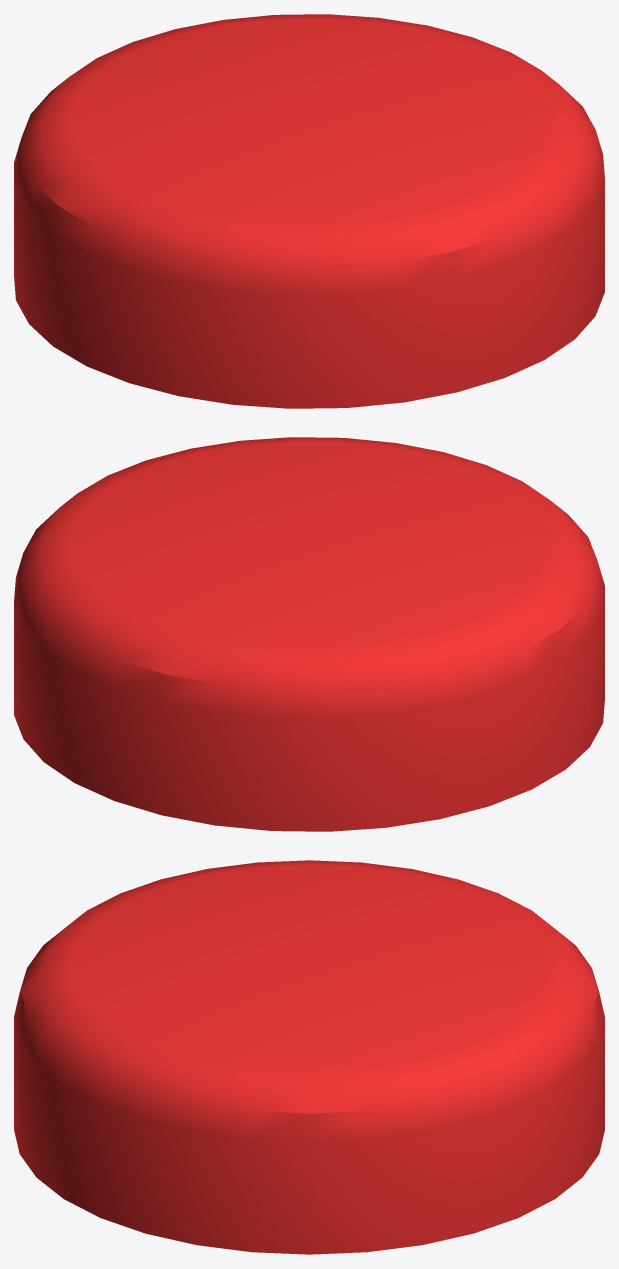
File: fish_sauce_top_nap.fbx
The picture shows the model from 3 angles, top to bottom: view 1: azimuth 30°, elevation 25°; view 2: azimuth 150°, elevation 25°; view 3: azimuth 270°, elevation 25°; orthographic projection.
Parts seen in each view (by area): view 1: fish_sauce_top_nap; view 2: fish_sauce_top_nap; view 3: fish_sauce_top_nap.
Part boxes in pixels (x1,y1,x2,y2): fish_sauce_top_nap: [14, 14, 604, 408]; fish_sauce_top_nap: [14, 437, 604, 831]; fish_sauce_top_nap: [14, 860, 604, 1254].
Size of the model in its own units: 6.61 by 2.01 by 6.61.
1 material, 1 textured.
